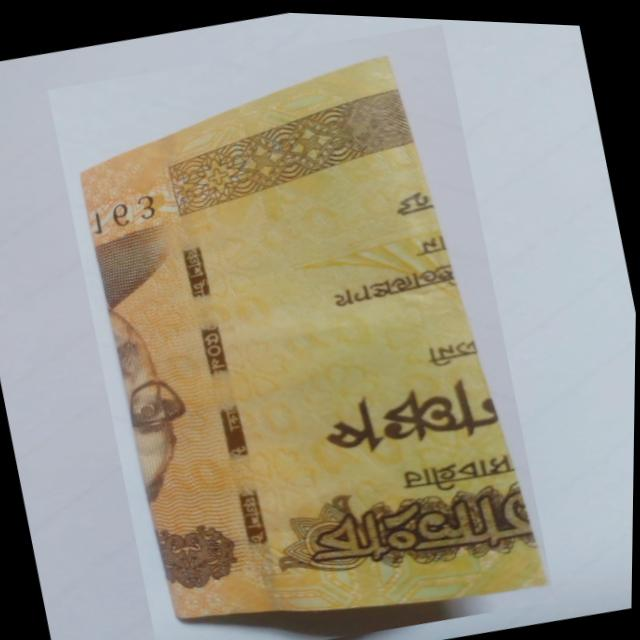Taka: (41, 5, 563, 640)
